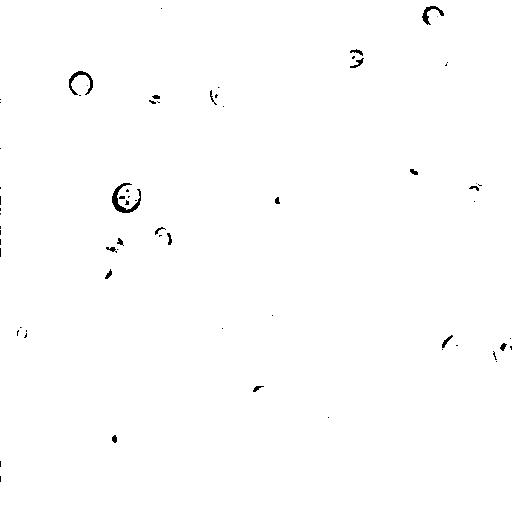micro-algae: (400, 449, 453, 501), (110, 181, 143, 215), (441, 332, 469, 360), (67, 69, 93, 97), (103, 422, 127, 451), (419, 4, 445, 29), (402, 159, 428, 184), (269, 184, 293, 211), (494, 333, 512, 367), (439, 51, 461, 78), (208, 85, 231, 108), (261, 310, 286, 331), (249, 384, 273, 405), (342, 48, 365, 69), (153, 225, 173, 249), (100, 235, 125, 254), (463, 181, 486, 201), (94, 263, 113, 281), (156, 5, 172, 25), (15, 323, 28, 339), (1, 461, 10, 479), (1, 233, 9, 253)
